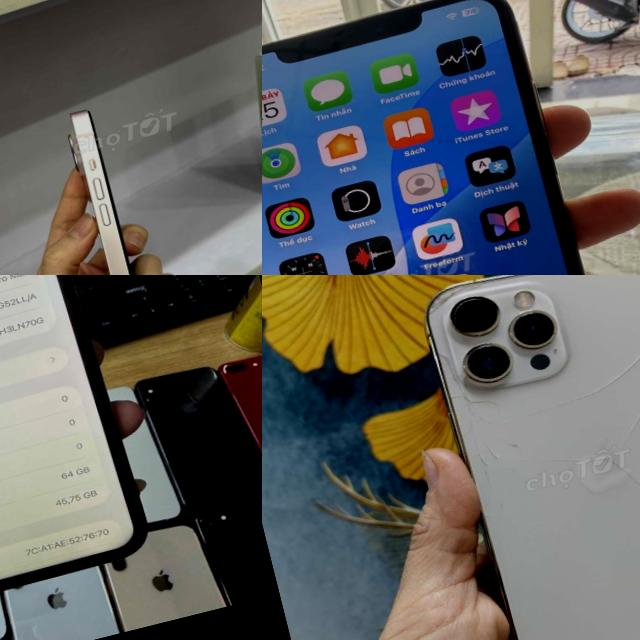physical_damage: (433, 282, 640, 610)
